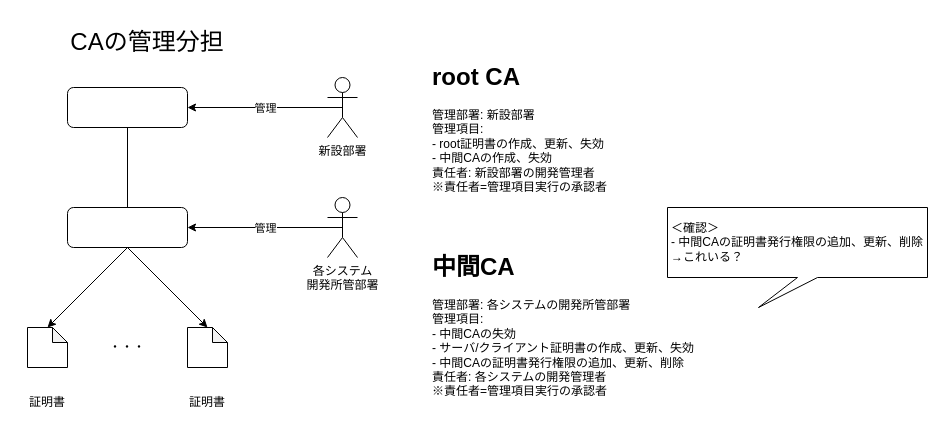
This 945x434 diagram has some shape labels left out. Each missing label, with the box of its shape:
root CA: (66, 86, 188, 128)
中間CA: (66, 206, 188, 248)
